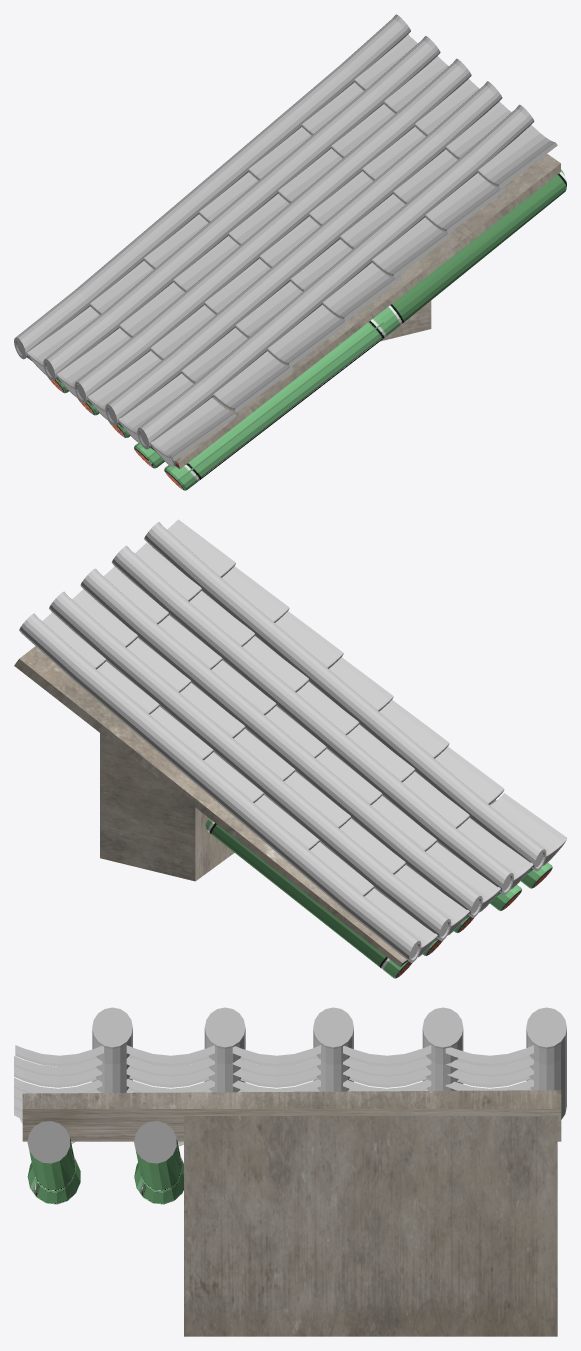
Rendered from SM_Roof_38.fbx.
The picture shows the model from 3 angles, top to bottom: view 1: azimuth 30°, elevation 25°; view 2: azimuth 150°, elevation 25°; view 3: azimuth 270°, elevation 25°; orthographic projection. The views are drawn at different scales.
Visible parts, largest first — view 1: SM_Roof_38; view 2: SM_Roof_38; view 3: SM_Roof_38.
Boxes of the visible parts, left/top/right/bottom form: SM_Roof_38: left=14, top=14, right=566, bottom=490; SM_Roof_38: left=14, top=519, right=566, bottom=978; SM_Roof_38: left=14, top=1007, right=566, bottom=1336.
Size of the model in its own units: 407 by 276 by 276.
